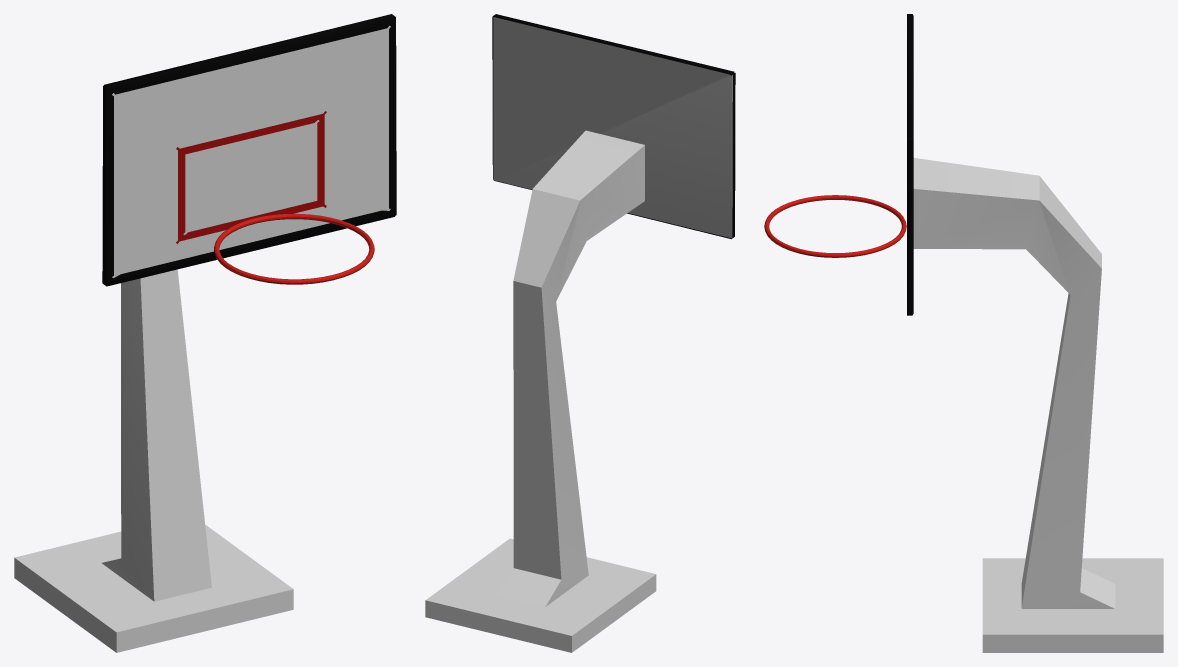
The model's file is basketballhoop.fbx.
The picture shows the model from 3 angles, left to right: view 1: azimuth 30°, elevation 25°; view 2: azimuth 150°, elevation 25°; view 3: azimuth 270°, elevation 25°; orthographic projection. The views are drawn at different scales.
Parts seen in each view (by area): view 1: basketballhoop_4, Group1, Group2, basketballhoop_3, basketballhoop_2, basketballhoop_1; view 2: basketballhoop_4, Group1, Group2, basketballhoop_3; view 3: Group1, Group2, basketballhoop_3, basketballhoop_1.
Boxes of the visible parts, box(x1,y1,x2,y2) form: basketballhoop_4: box(112, 25, 390, 277); Group1: box(102, 269, 211, 601); Group2: box(14, 525, 293, 652); basketballhoop_3: box(102, 14, 396, 286); basketballhoop_2: box(176, 111, 326, 243); basketballhoop_1: box(214, 213, 374, 284); basketballhoop_4: box(493, 17, 732, 238); Group1: box(497, 130, 644, 607); Group2: box(425, 538, 656, 652); basketballhoop_3: box(492, 14, 735, 239); Group1: box(913, 158, 1115, 608); Group2: box(982, 558, 1163, 652); basketballhoop_3: box(907, 14, 913, 315); basketballhoop_1: box(764, 195, 906, 257).
Bounding box in the file's own units: 1228 × 2464 × 1652.
